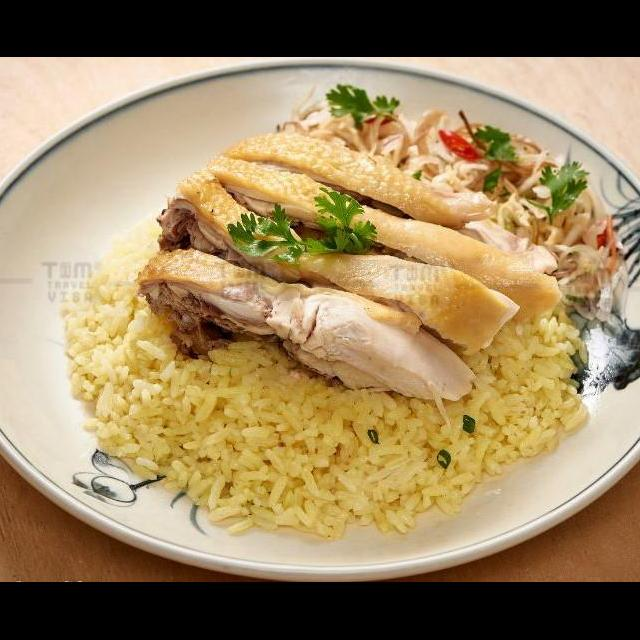com: (75, 336, 486, 544), (51, 214, 184, 410), (451, 308, 595, 480)
com ga: (0, 104, 640, 582)
thit ga: (146, 168, 523, 364), (196, 150, 565, 327), (130, 248, 479, 406), (216, 128, 541, 260)
